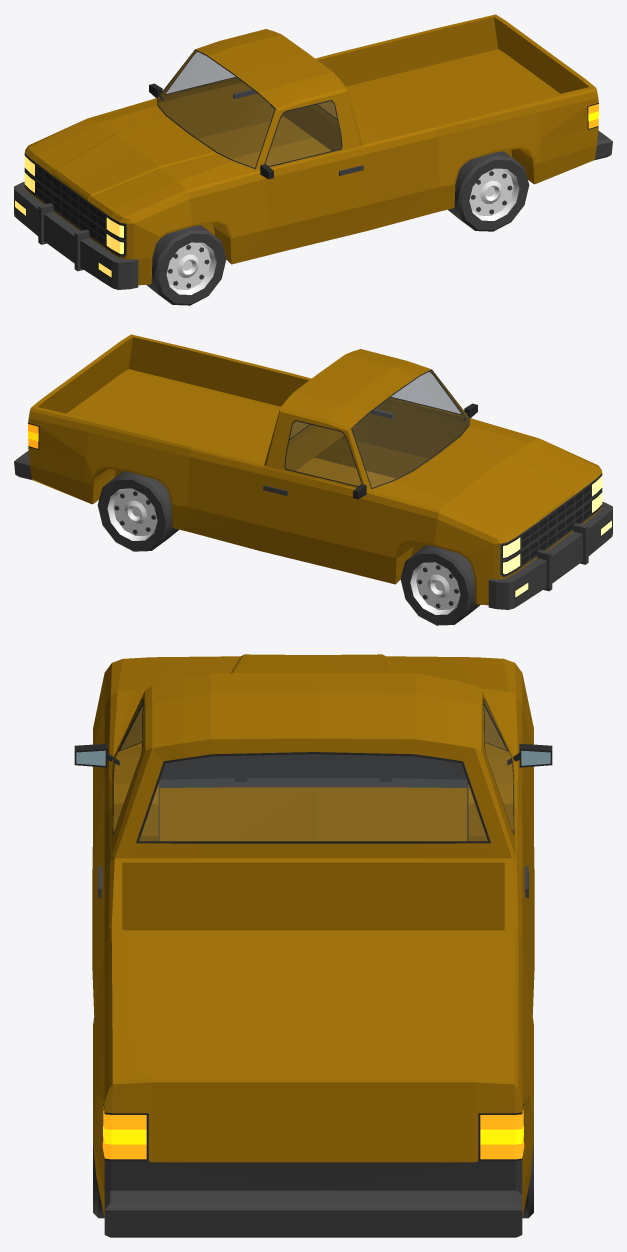
File: pickup-crew-cab.glb
3 renders of one model, top to bottom at view 1: azimuth 30°, elevation 25°; view 2: azimuth 150°, elevation 25°; view 3: azimuth 270°, elevation 25°, orthographic. The views are drawn at different scales.
Visible parts, largest first — view 1: Pick Up_11, Pick Up_11 BL Tire, Pick Up_11 FL Tire; view 2: Pick Up_11, Pick Up_11 BR Tire, Pick Up_11 FR Tire; view 3: Pick Up_11.
Part boxes in pixels (x1,y1,x2,y2): Pick Up_11: (14, 14, 612, 289); Pick Up_11 BL Tire: (448, 151, 529, 231); Pick Up_11 FL Tire: (146, 225, 226, 305); Pick Up_11: (14, 334, 612, 609); Pick Up_11 BR Tire: (97, 471, 178, 551); Pick Up_11 FR Tire: (400, 545, 480, 625); Pick Up_11: (74, 654, 552, 1237).
Size of the model in its own units: 5.94 by 1.94 by 2.45.
3 materials, 2 textured.
